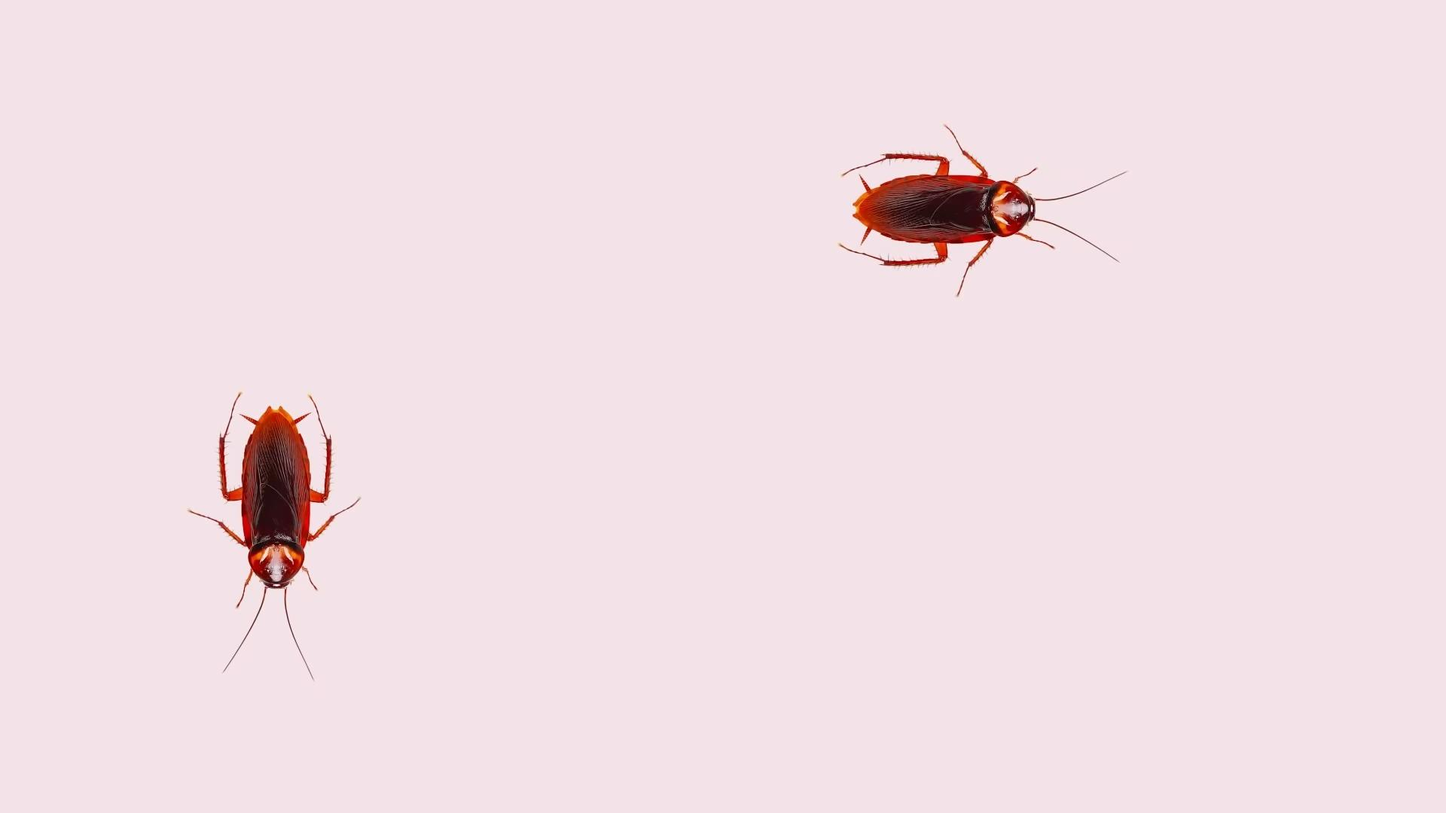cockroach: (192, 382, 346, 679), (833, 140, 1125, 280)
